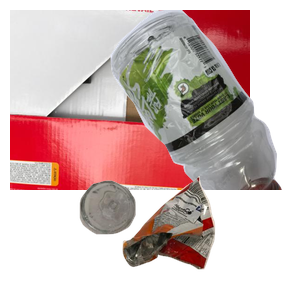cardboard: (10, 10, 250, 190)
glass: (77, 178, 205, 300)
plastic: (73, 10, 300, 190)
trash: (120, 174, 300, 300)
